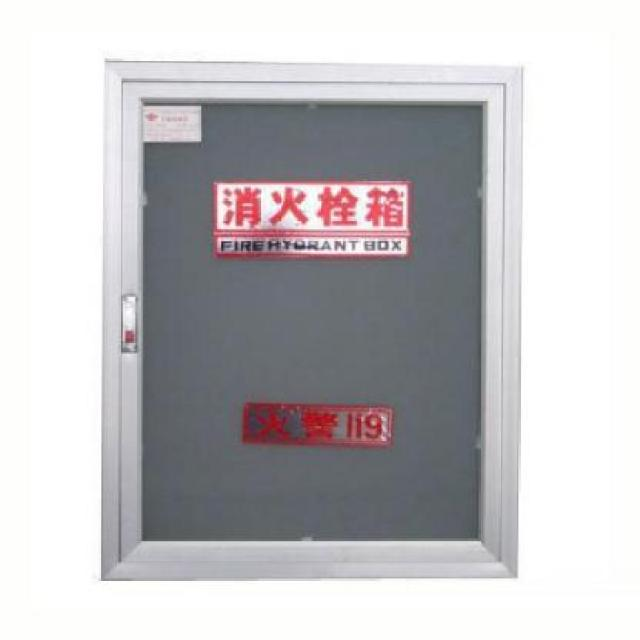firehydrant: (95, 52, 527, 586)
